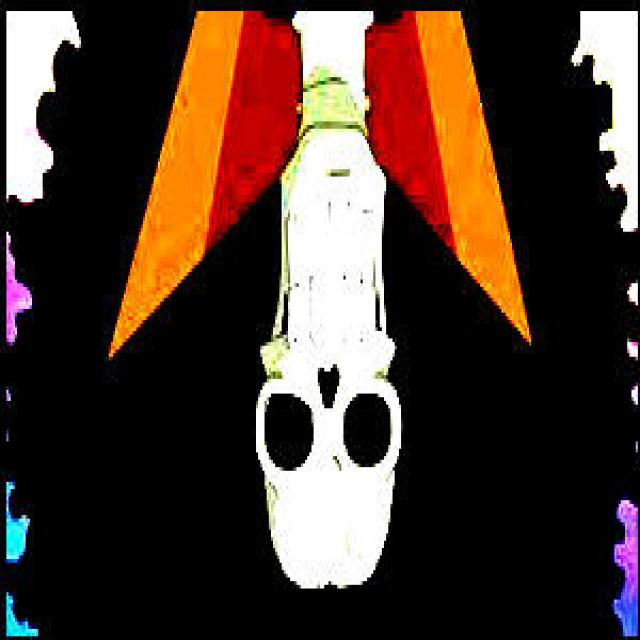Brook: (2, 8, 638, 600)
